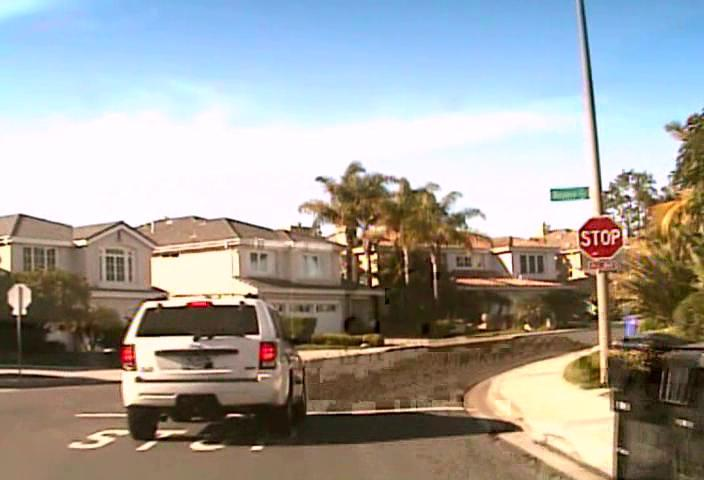stop: (577, 216, 623, 259)
